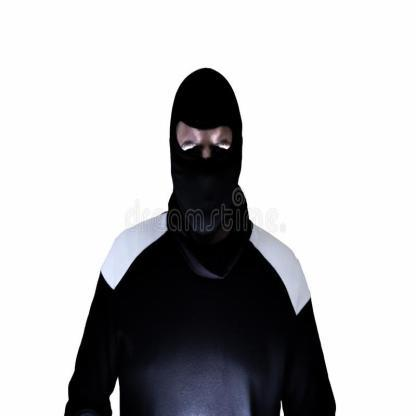criminal: (64, 67, 337, 416)
